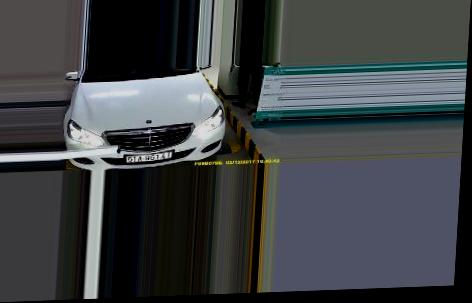License_Plate: (124, 151, 177, 165)
